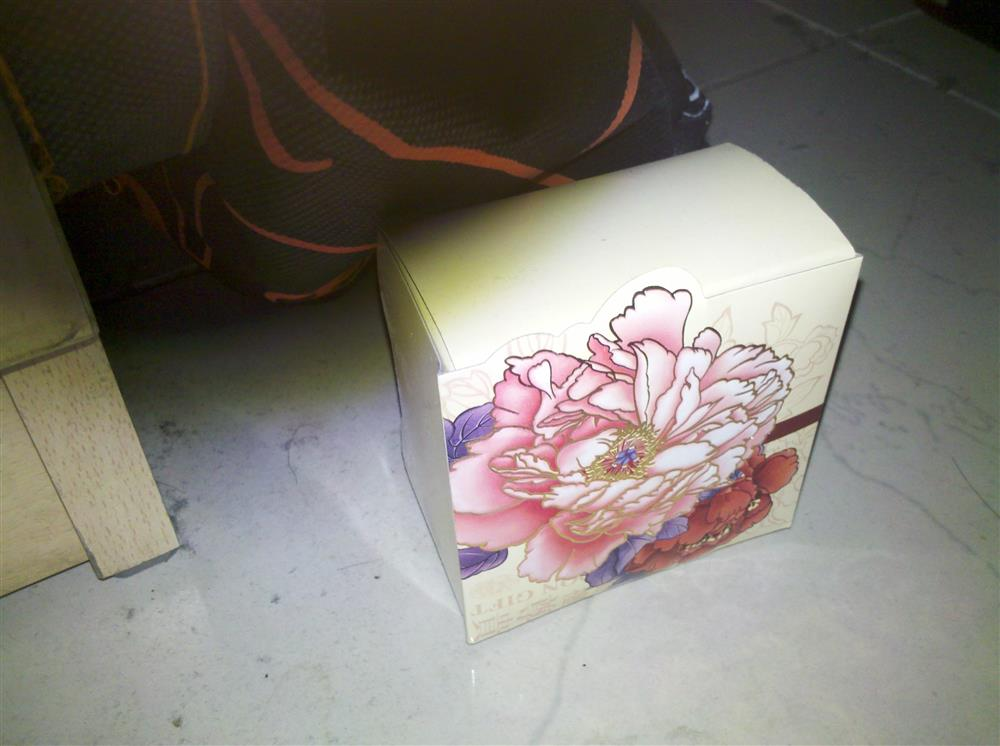mooncake_box: (371, 148, 863, 636)
